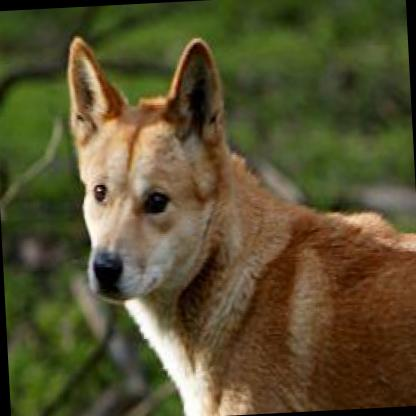dingo: (56, 19, 416, 416)
